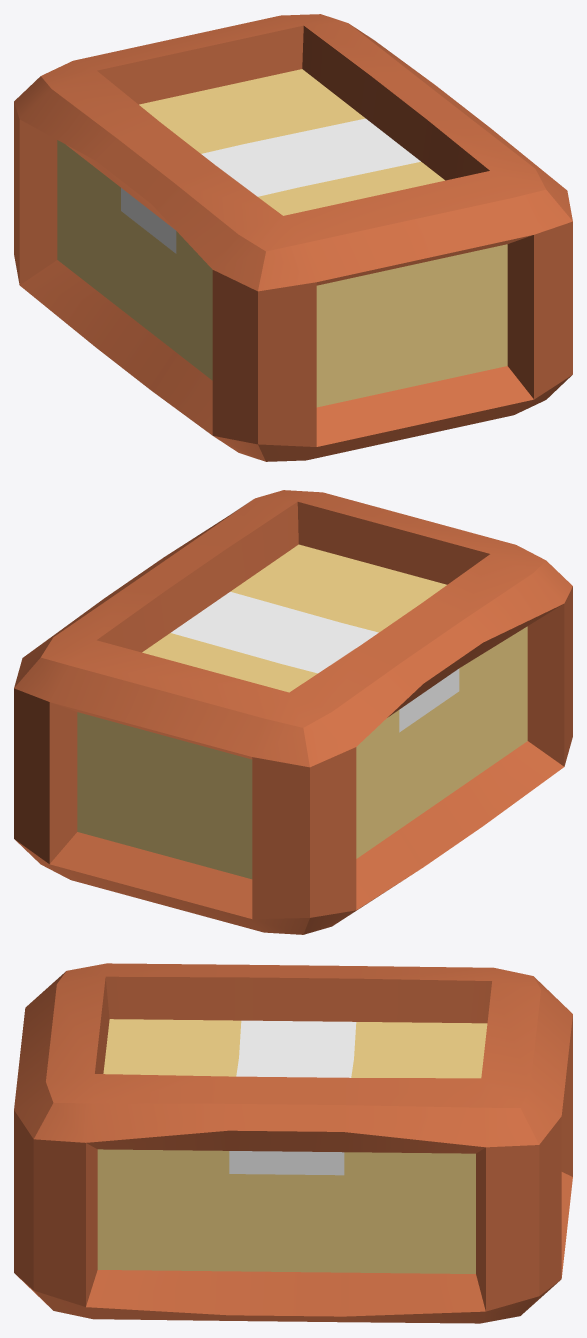
File: Props_Box_Wood_04.fbx
3 renders of one model, top to bottom at view 1: azimuth 30°, elevation 25°; view 2: azimuth 150°, elevation 25°; view 3: azimuth 270°, elevation 25°, orthographic.
Parts seen in each view (by area): view 1: Props_Box_Wood_04; view 2: Props_Box_Wood_04; view 3: Props_Box_Wood_04.
Boxes of the visible parts, x1=… form: Props_Box_Wood_04: x1=14, y1=14, x2=572, y2=461; Props_Box_Wood_04: x1=14, y1=490, x2=572, y2=934; Props_Box_Wood_04: x1=14, y1=963, x2=572, y2=1323.
Bounding box in the file's own units: 45 × 28.3 × 61.82.
